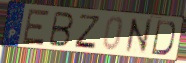0: (101, 15, 125, 53)
B: (47, 10, 75, 48)
D: (149, 19, 177, 57)
E: (21, 8, 52, 47)
N: (124, 17, 153, 55)
Z: (73, 13, 102, 50)
